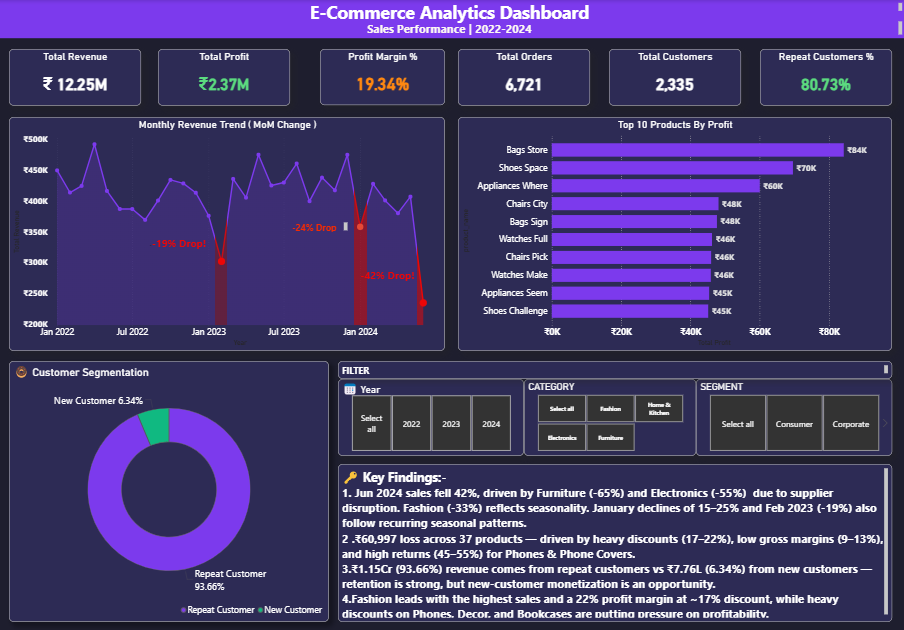

This screenshot's page, from the dashboard's own definition file:
{"tool":"powerbi","page":{"name":"Overview","canvas":[1920,1340],"ordinal":0},"visuals":[{"type":"shape","box":[0,0,1920,81],"z":0},{"type":"textbox","box":[0,0,1920,75.2],"z":1000},{"type":"textbox","box":[0,40.5,1920,40.5],"z":2000},{"type":"card","title":"Total Revenue","fields":{"Values":["e_commerce orders.Total Revenue"]},"box":[21.2,104.1,279.5,119.5],"z":3000},{"type":"card","title":"Total Profit","fields":{"Values":["e_commerce orders.Total Profit"]},"box":[337.3,104.1,279.5,119.5],"z":4000},{"type":"card","title":"Profit Margin %","fields":{"Values":["e_commerce customers.Profit Margin1 %"]},"box":[680.6,103.9,265,118.7],"z":5000},{"type":"card","title":"Total Orders","fields":{"Values":["e_commerce orders.Total Orders"]},"box":[973.5,104.1,279.5,119.5],"z":6000},{"type":"card","title":"Total Customers","fields":{"Values":["e_commerce customers.Total Customers"]},"box":[1293.5,104.1,279.5,119.5],"z":7000},{"type":"card","title":"Repeat Customers %","fields":{"Values":["e_commerce customers.Repeat Customer %"]},"box":[1613.5,104.1,279.5,119.5],"z":8000},{"type":"lineChart","title":"Monthly Revenue Trend ( MoM Change ) ","fields":{"Y":["e_commerce orders.Total Revenue"],"Category":["e_commerce orders.order_date.Variation.Date Hierarchy.Year","e_commerce orders.order_date.Variation.Date Hierarchy.Month"]},"box":[21.2,248.1,924.4,496.1],"z":9000},{"type":"textbox","box":[761.4,564.8,134.9,42.4],"z":10000},{"type":"textbox","box":[314.2,495.4,140.7,44.3],"z":11000},{"type":"clusteredBarChart","title":"Top 10 Products By Profit","fields":{"Category":["e_commerce products.product_name"],"Y":["e_commerce orders.Total Profit"]},"box":[973.2,248.1,920.2,496.1],"z":12000},{"type":"donutChart","title":"🍩 Customer Segmentation","fields":{"Category":["e_commerce orders.customer_type"],"Y":["e_commerce orders.Total Revenue"]},"box":[21.2,765.4,678.5,553.4],"z":13000},{"type":"slicer","title":"📅 Year","fields":{"Values":["e_commerce orders.order_date.Variation.Date Hierarchy.Year"]},"box":[718.8,803.6,394.4,163.3],"z":14000},{"type":"slicer","title":"CATEGORY","fields":{"Values":["e_commerce products.category"]},"box":[1113.1,803.6,364.7,163.3],"z":15000},{"type":"slicer","title":"SEGMENT","fields":{"Values":["e_commerce customers.segment"]},"box":[1477.8,803.6,415.6,163.3],"z":16000},{"type":"textbox","box":[718.8,765.4,1174.6,38.2],"z":17000},{"type":"textbox","box":[718.8,983.8,1174.6,335],"z":18000},{"type":"textbox","box":[617,466.5,127.2,29.7],"z":19000}]}

Visuals, with their boxes in screenshot pixels (x1, y1, x2, y2), scaled from the page's 1920x1340 canvas onto the 904x630 screenshot:
shape: pyautogui.locateOnScreen(0, 0, 903, 38)
textbox: pyautogui.locateOnScreen(0, 0, 903, 35)
textbox: pyautogui.locateOnScreen(0, 19, 903, 38)
"Total Revenue" card: pyautogui.locateOnScreen(10, 49, 142, 105)
"Total Profit" card: pyautogui.locateOnScreen(159, 49, 290, 105)
"Profit Margin %" card: pyautogui.locateOnScreen(320, 49, 445, 105)
"Total Orders" card: pyautogui.locateOnScreen(458, 49, 590, 105)
"Total Customers" card: pyautogui.locateOnScreen(609, 49, 741, 105)
"Repeat Customers %" card: pyautogui.locateOnScreen(760, 49, 891, 105)
"Monthly Revenue Trend ( MoM Change ) " lineChart: pyautogui.locateOnScreen(10, 117, 445, 350)
textbox: pyautogui.locateOnScreen(358, 266, 422, 285)
textbox: pyautogui.locateOnScreen(148, 233, 214, 254)
"Top 10 Products By Profit" clusteredBarChart: pyautogui.locateOnScreen(458, 117, 891, 350)
"🍩 Customer Segmentation" donutChart: pyautogui.locateOnScreen(10, 360, 329, 620)
"📅 Year" slicer: pyautogui.locateOnScreen(338, 378, 524, 455)
"CATEGORY" slicer: pyautogui.locateOnScreen(524, 378, 696, 455)
"SEGMENT" slicer: pyautogui.locateOnScreen(696, 378, 891, 455)
textbox: pyautogui.locateOnScreen(338, 360, 891, 378)
textbox: pyautogui.locateOnScreen(338, 463, 891, 620)
textbox: pyautogui.locateOnScreen(291, 219, 350, 233)
